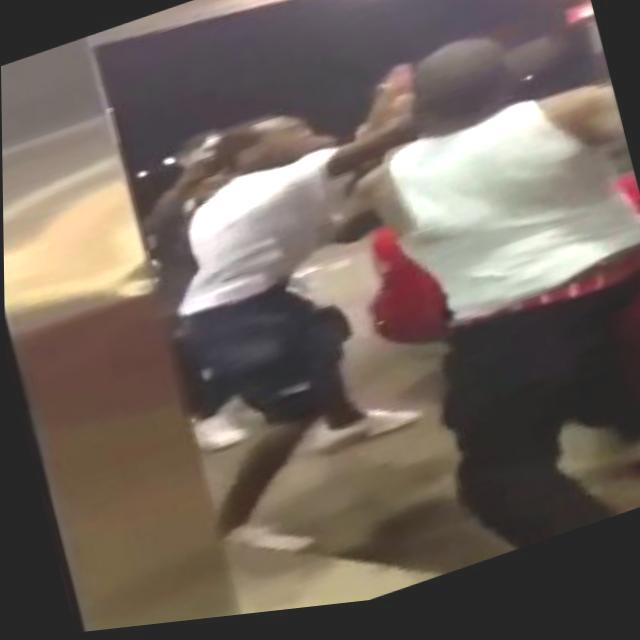fight: (150, 7, 640, 591)
